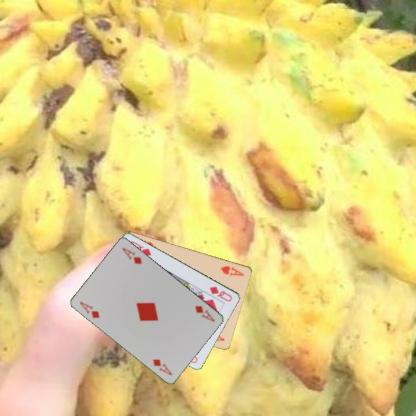Ad: (78, 298, 101, 320), (192, 303, 216, 323)
Ah: (218, 263, 245, 277)
Qd: (207, 284, 233, 302)
